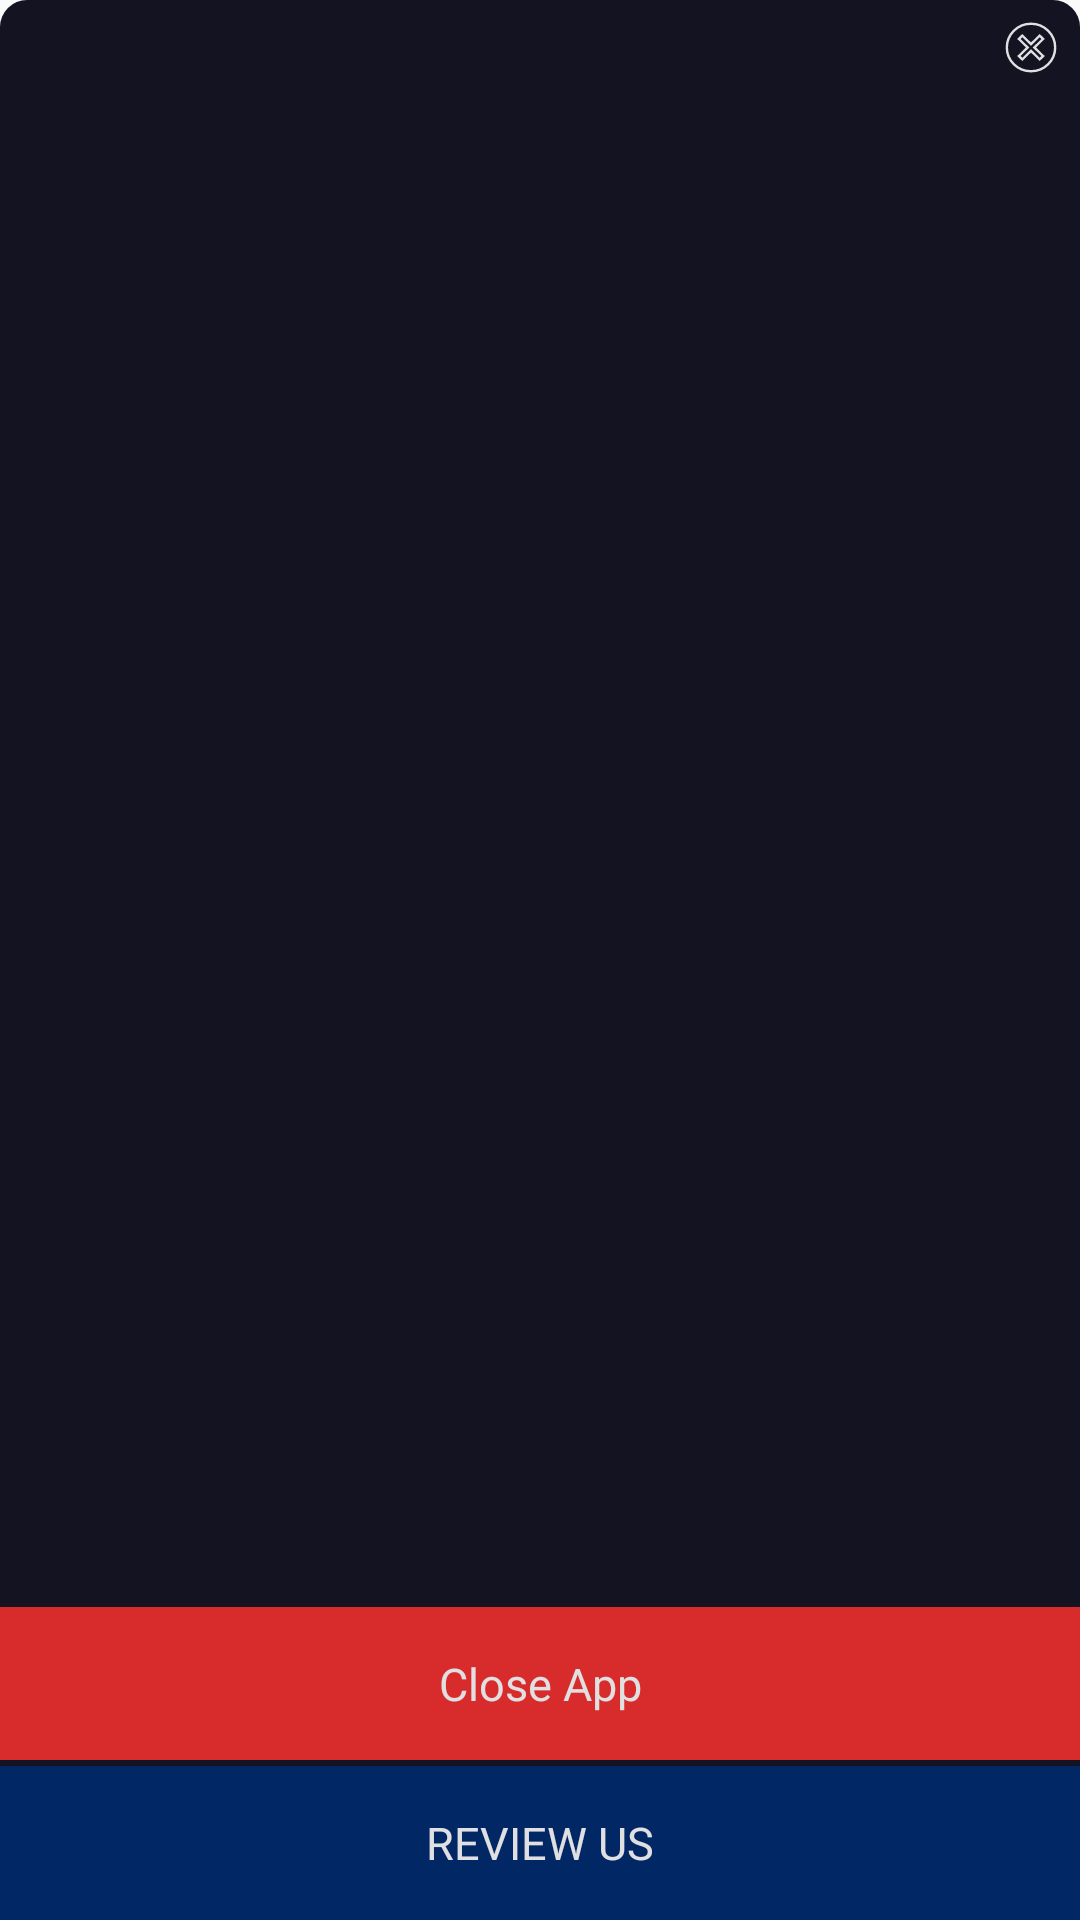

Icon click points for this 1080w x 1920h phone screenshot, format point (x, y):
popup cancel: point (1031, 47)
